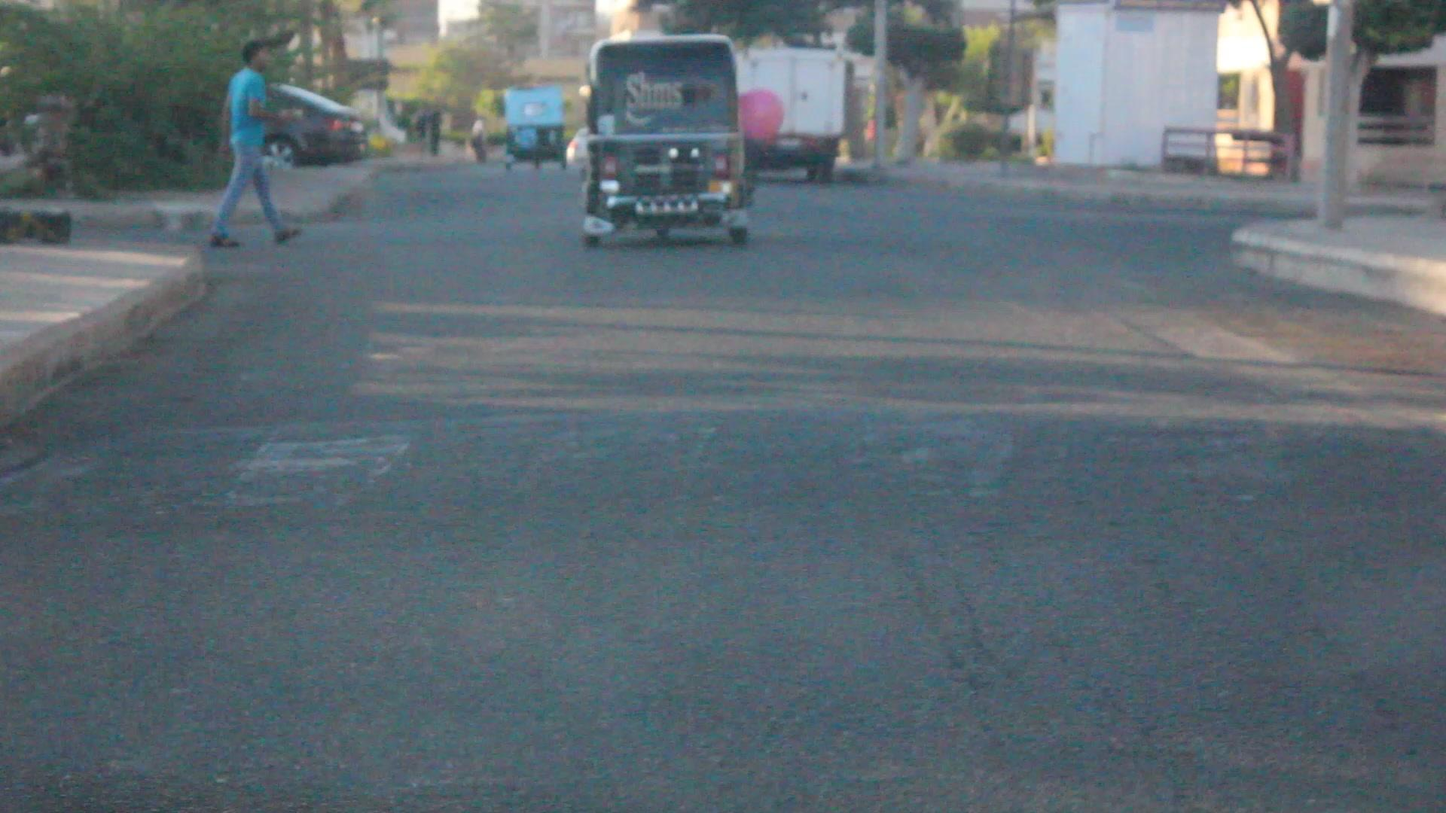Bump: (55, 414, 1418, 553)
